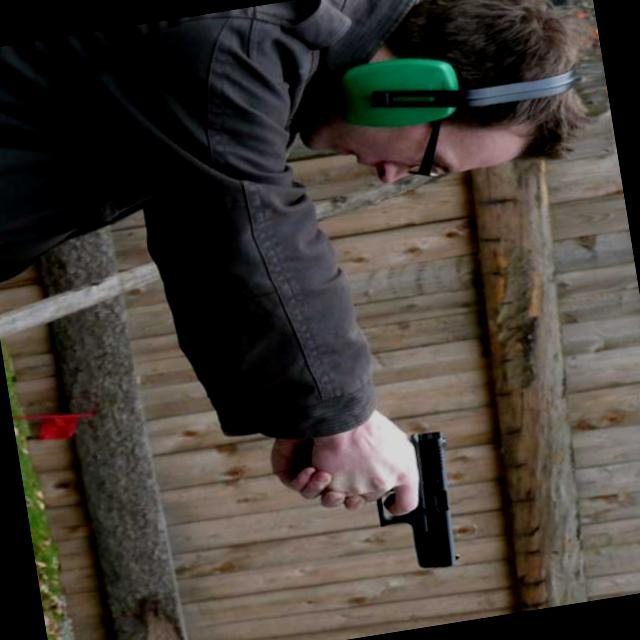handgun: (274, 406, 468, 590)
